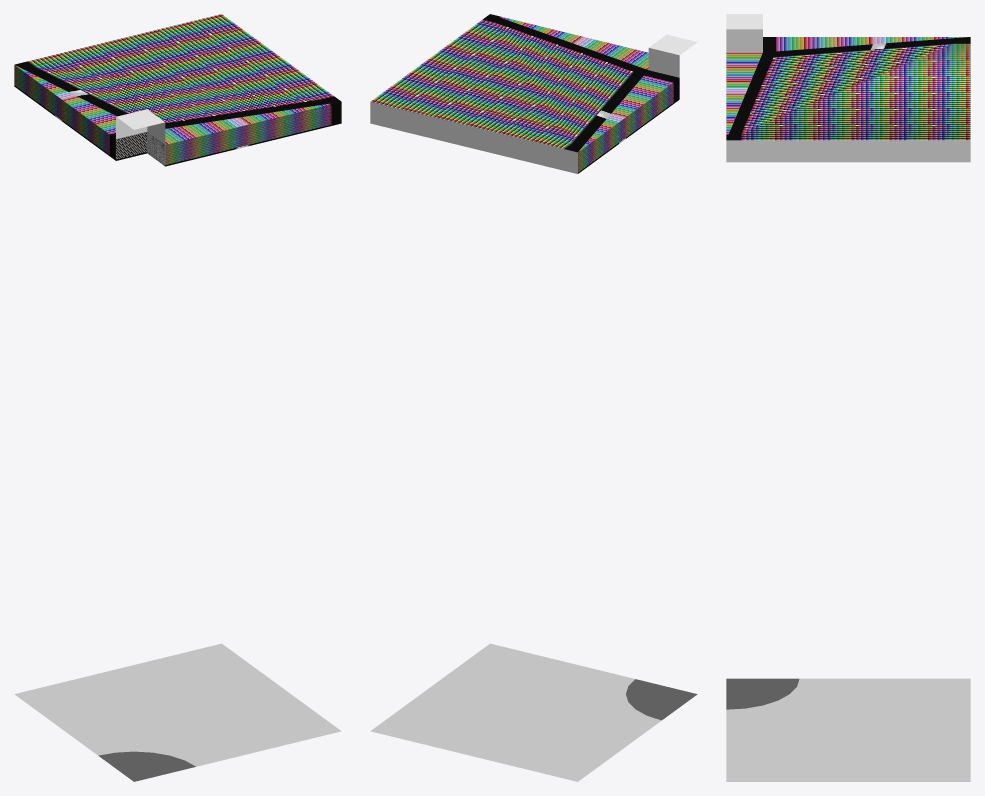
Rendered from ground_corner_1_1.fbx.
3 views of the same model, side by side, from view 1: azimuth 30°, elevation 25°; view 2: azimuth 150°, elevation 25°; view 3: azimuth 270°, elevation 25° (orthographic).
Visible parts, largest first — view 1: shadowsOnly, ground_corner_1_1, ceiling_corner_1; view 2: shadowsOnly, ground_corner_1_1, ceiling_corner_1; view 3: shadowsOnly, ground_corner_1_1, ceiling_corner_1.
Part boxes in pixels (left/top/right/bottom): shadowsOnly: left=14, top=14, right=341, bottom=166; ground_corner_1_1: left=14, top=643, right=341, bottom=781; ceiling_corner_1: left=116, top=109, right=165, bottom=165; shadowsOnly: left=370, top=14, right=679, bottom=173; ground_corner_1_1: left=370, top=643, right=697, bottom=781; ceiling_corner_1: left=648, top=34, right=697, bottom=77; shadowsOnly: left=726, top=37, right=970, bottom=162; ground_corner_1_1: left=726, top=678, right=970, bottom=781; ceiling_corner_1: left=726, top=14, right=762, bottom=52.
Size of what is drawn, in the model's own units: 100 by 300 by 100.
